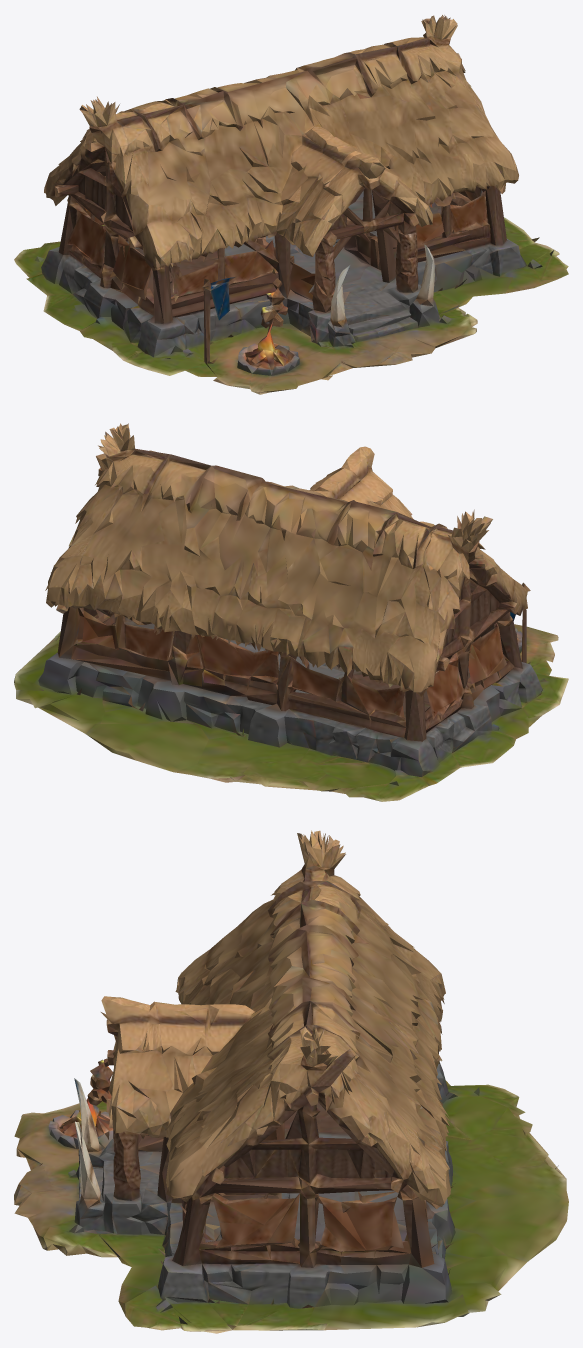
Rendered from towncenter.glb.
3 renders of one model, top to bottom at view 1: azimuth 30°, elevation 25°; view 2: azimuth 150°, elevation 25°; view 3: azimuth 270°, elevation 25°, orthographic. The views are drawn at different scales.
Bounding box in the file's own units: 1.89 × 0.8932 × 1.69.
Materials: 1 (1 with a texture image).
